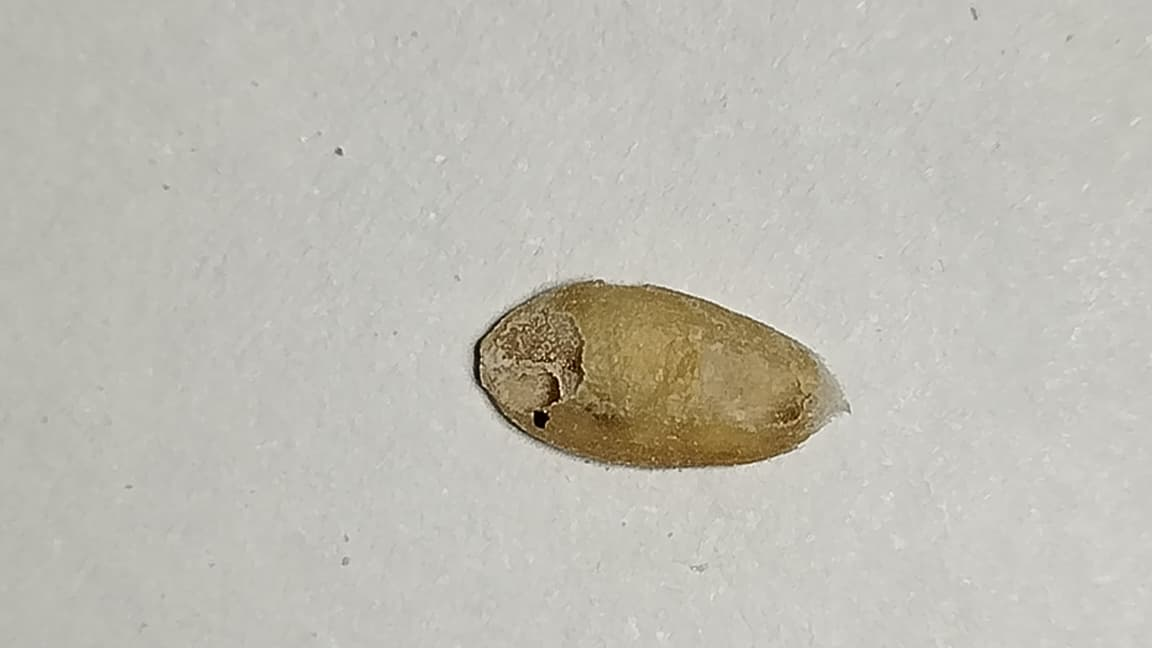damage: (474, 276, 851, 470)
insectdamage: (672, 320, 851, 443), (473, 303, 586, 428)
